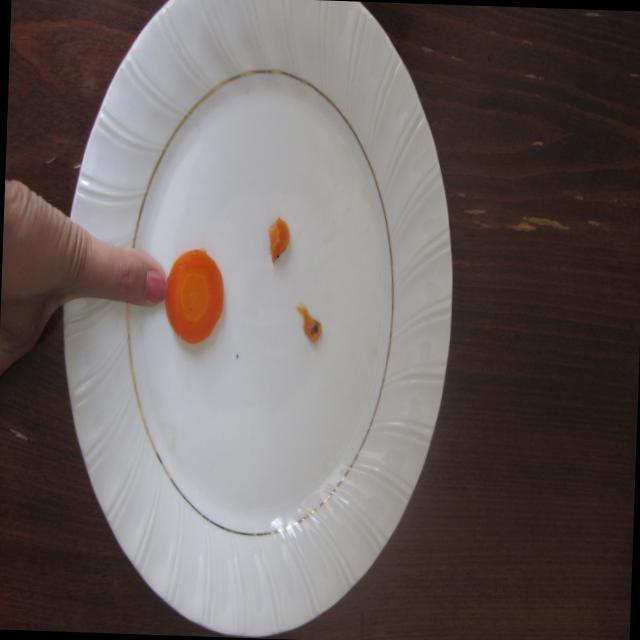Carrot: (160, 242, 232, 348)
Finger: (107, 234, 170, 314)
